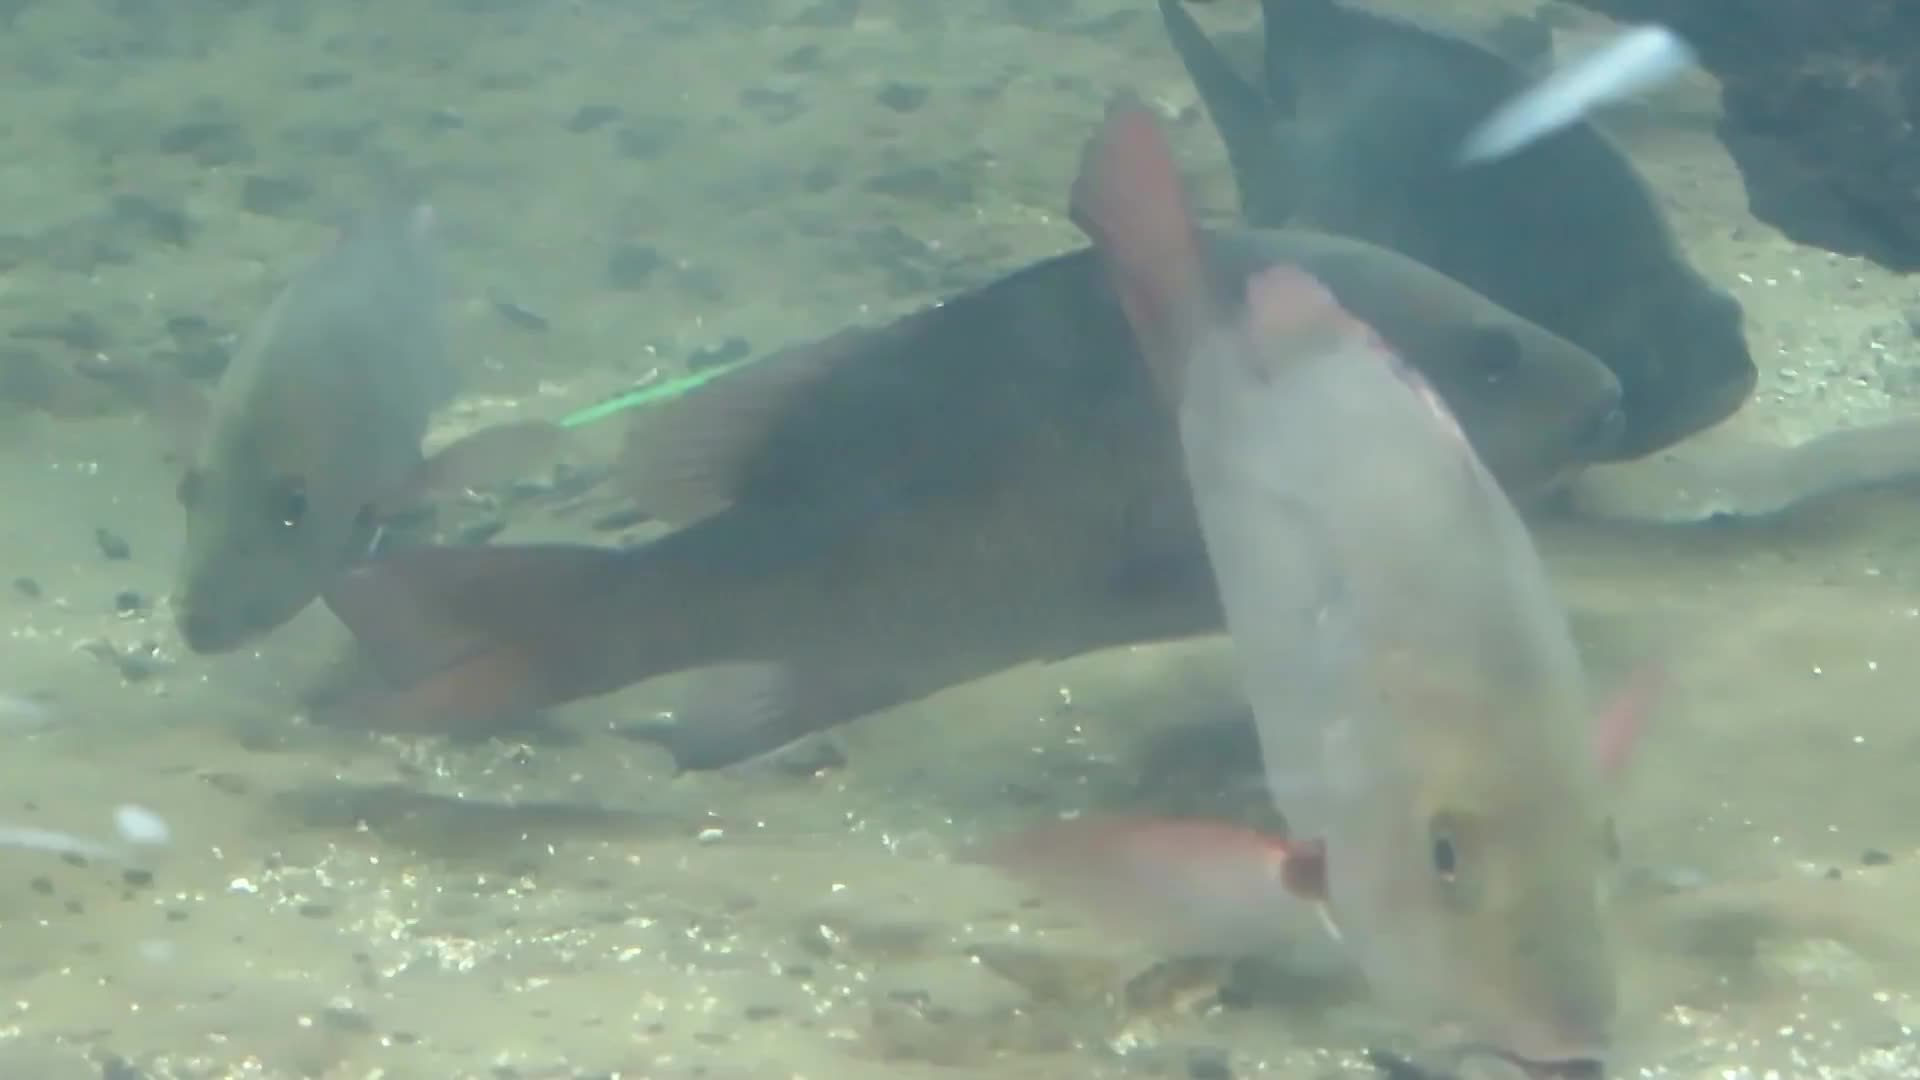Lutjanus argentimaculatus: (127, 231, 508, 674)
